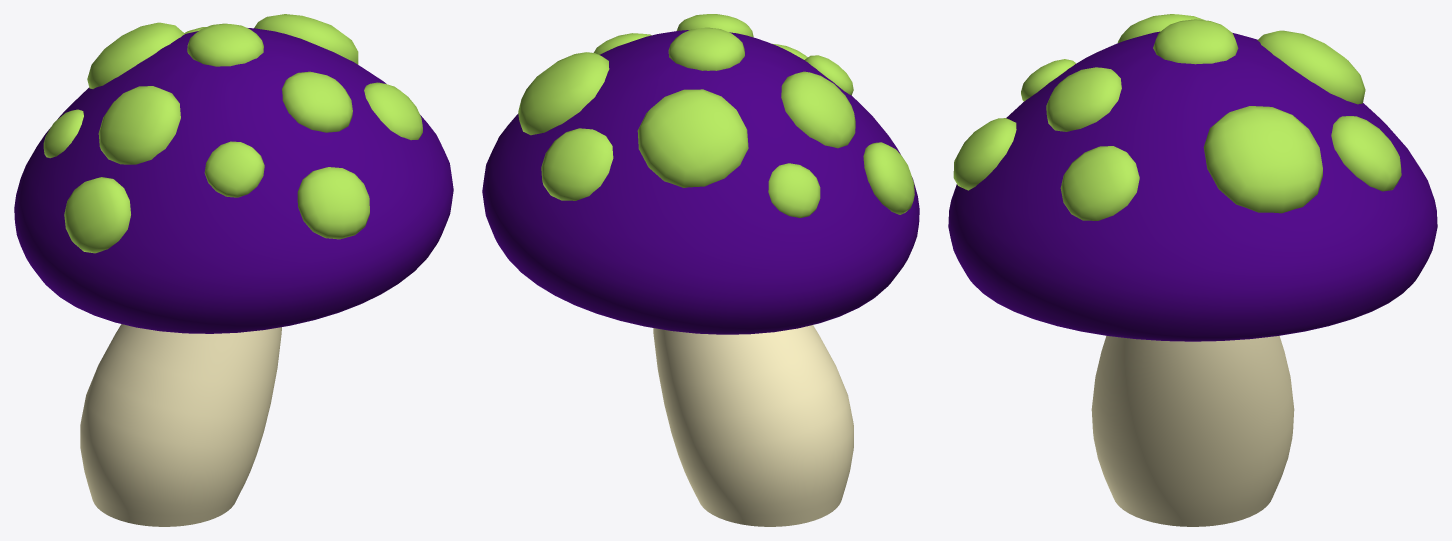
Rendered from mushroom.fbx.
3 renders of one model, left to right at view 1: azimuth 30°, elevation 25°; view 2: azimuth 150°, elevation 25°; view 3: azimuth 270°, elevation 25°, orthographic. The views are drawn at different scales.
Visible parts, largest first — view 1: Hat, Trunk, Node.003, Node.009, Node.010, Node.007, Node.004, Node, Node.002, Node.006, Node.001, Node.005; view 2: Hat, Trunk, Node.004, Node.006, Node.008, Node.003, Node, Node.010, Node.005, Node.007, Node.002; view 3: Hat, Trunk, Node.006, Node.001, Node.004, Node.007, Node.008, Node, Node.009, Node.002, Node.003.
Boxes of the visible parts, bbox=[...] form: Hat: bbox=[14, 28, 453, 333]; Trunk: bbox=[80, 324, 281, 526]; Node.003: bbox=[98, 86, 180, 164]; Node.009: bbox=[297, 167, 369, 239]; Node.010: bbox=[64, 177, 130, 253]; Node.007: bbox=[282, 71, 352, 132]; Node.004: bbox=[87, 22, 184, 88]; Node: bbox=[187, 23, 263, 66]; Node.002: bbox=[204, 141, 264, 197]; Node.006: bbox=[254, 14, 358, 64]; Node.001: bbox=[364, 82, 422, 140]; Node.005: bbox=[43, 109, 83, 158]; Hat: bbox=[482, 30, 919, 334]; Trunk: bbox=[653, 325, 853, 526]; Node.004: bbox=[637, 89, 748, 187]; Node.006: bbox=[518, 52, 609, 135]; Node.008: bbox=[541, 128, 613, 200]; Node.003: bbox=[781, 71, 855, 148]; Node: bbox=[668, 27, 744, 70]; Node.010: bbox=[863, 142, 914, 214]; Node.005: bbox=[768, 163, 820, 217]; Node.007: bbox=[676, 14, 753, 37]; Node.002: bbox=[805, 55, 853, 95]; Hat: bbox=[948, 31, 1437, 341]; Trunk: bbox=[1091, 336, 1294, 526]; Node.006: bbox=[1203, 106, 1322, 213]; Node.001: bbox=[1060, 146, 1139, 220]; Node.004: bbox=[1257, 30, 1365, 104]; Node.007: bbox=[1046, 67, 1121, 131]; Node.008: bbox=[1331, 116, 1401, 191]; Node: bbox=[1153, 19, 1238, 64]; Node.009: bbox=[953, 118, 1016, 190]; Node.002: bbox=[1021, 59, 1075, 101]; Node.003: bbox=[1117, 14, 1204, 42].
Bounding box in the file's own units: 579 × 656 × 581.
